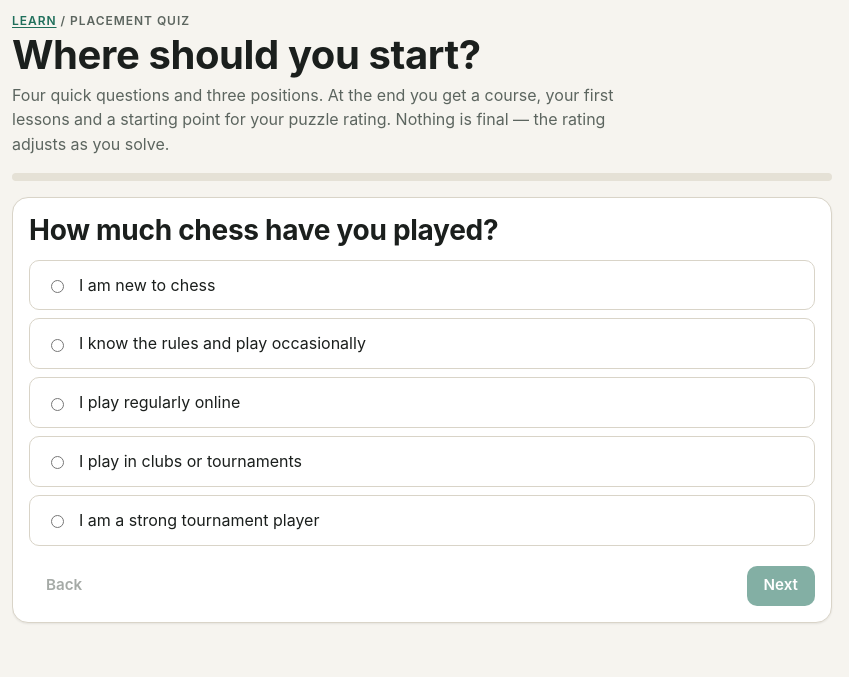
PlacementPage › shows the answer options in the move notation setting
Click the radio button labelled "I play regularly online" at {"x": 58, "y": 404}, box [51,398,64,411]
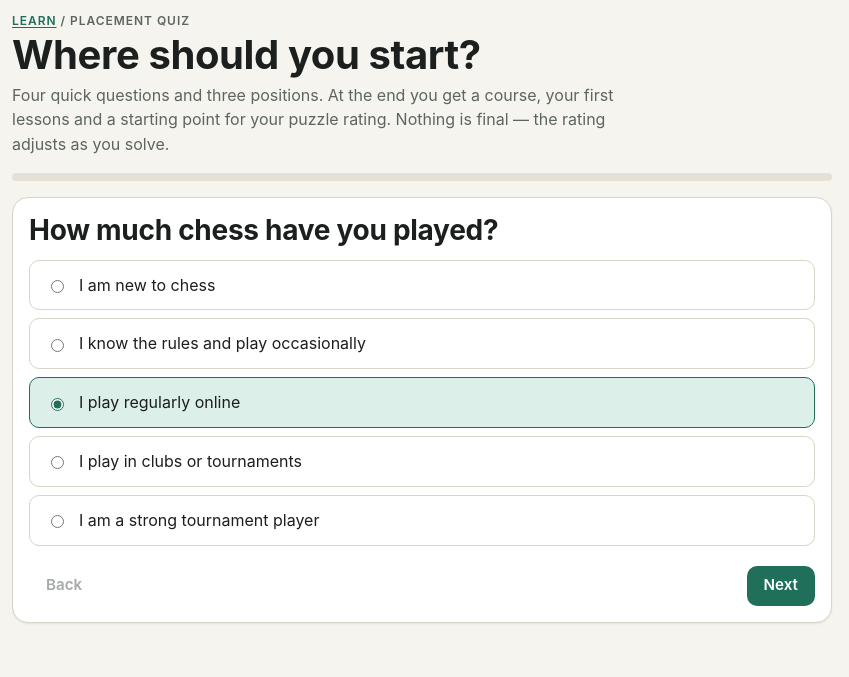
Click the button with test id "placement-next" at {"x": 781, "y": 586}, box [746,566,815,606]
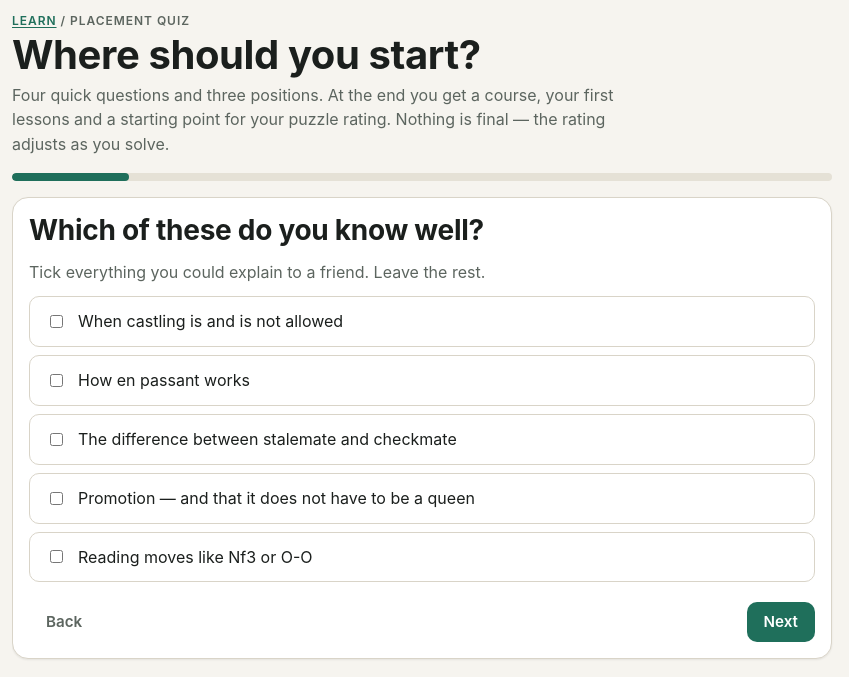
Click the button with test id "placement-next" at {"x": 781, "y": 622}, box [746,602,815,642]
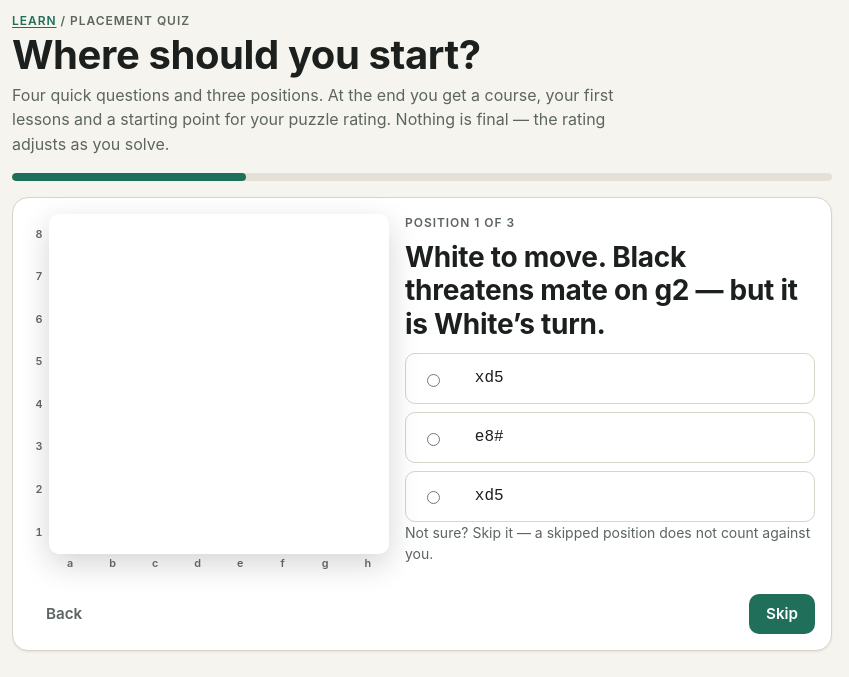
Check: the number of elements with class "san__piece" is 3, box [455,367,474,386]; [455,426,474,445]; [455,485,474,504]
